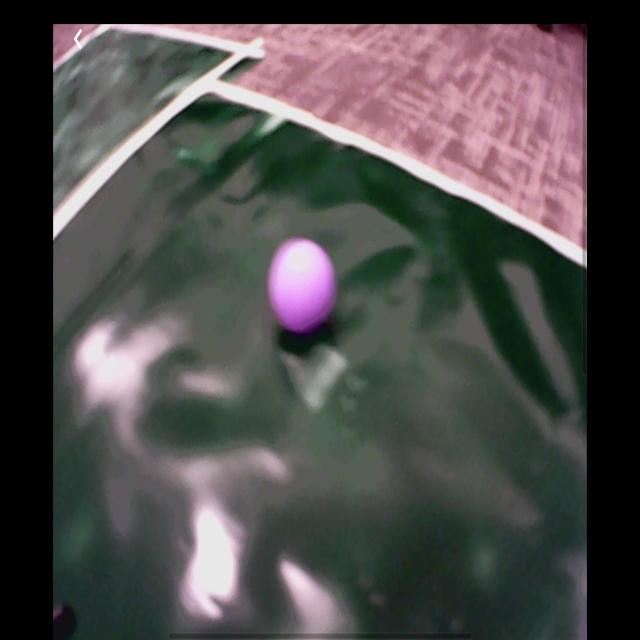ball: (267, 237, 338, 336)
